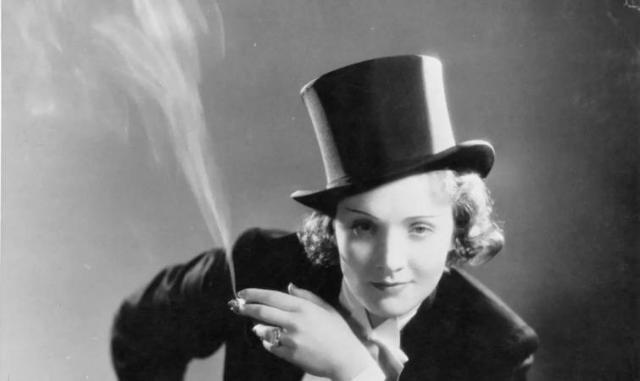SafeDriving: (341, 214, 382, 240), (402, 216, 440, 239)
Smoking: (226, 298, 248, 314)
